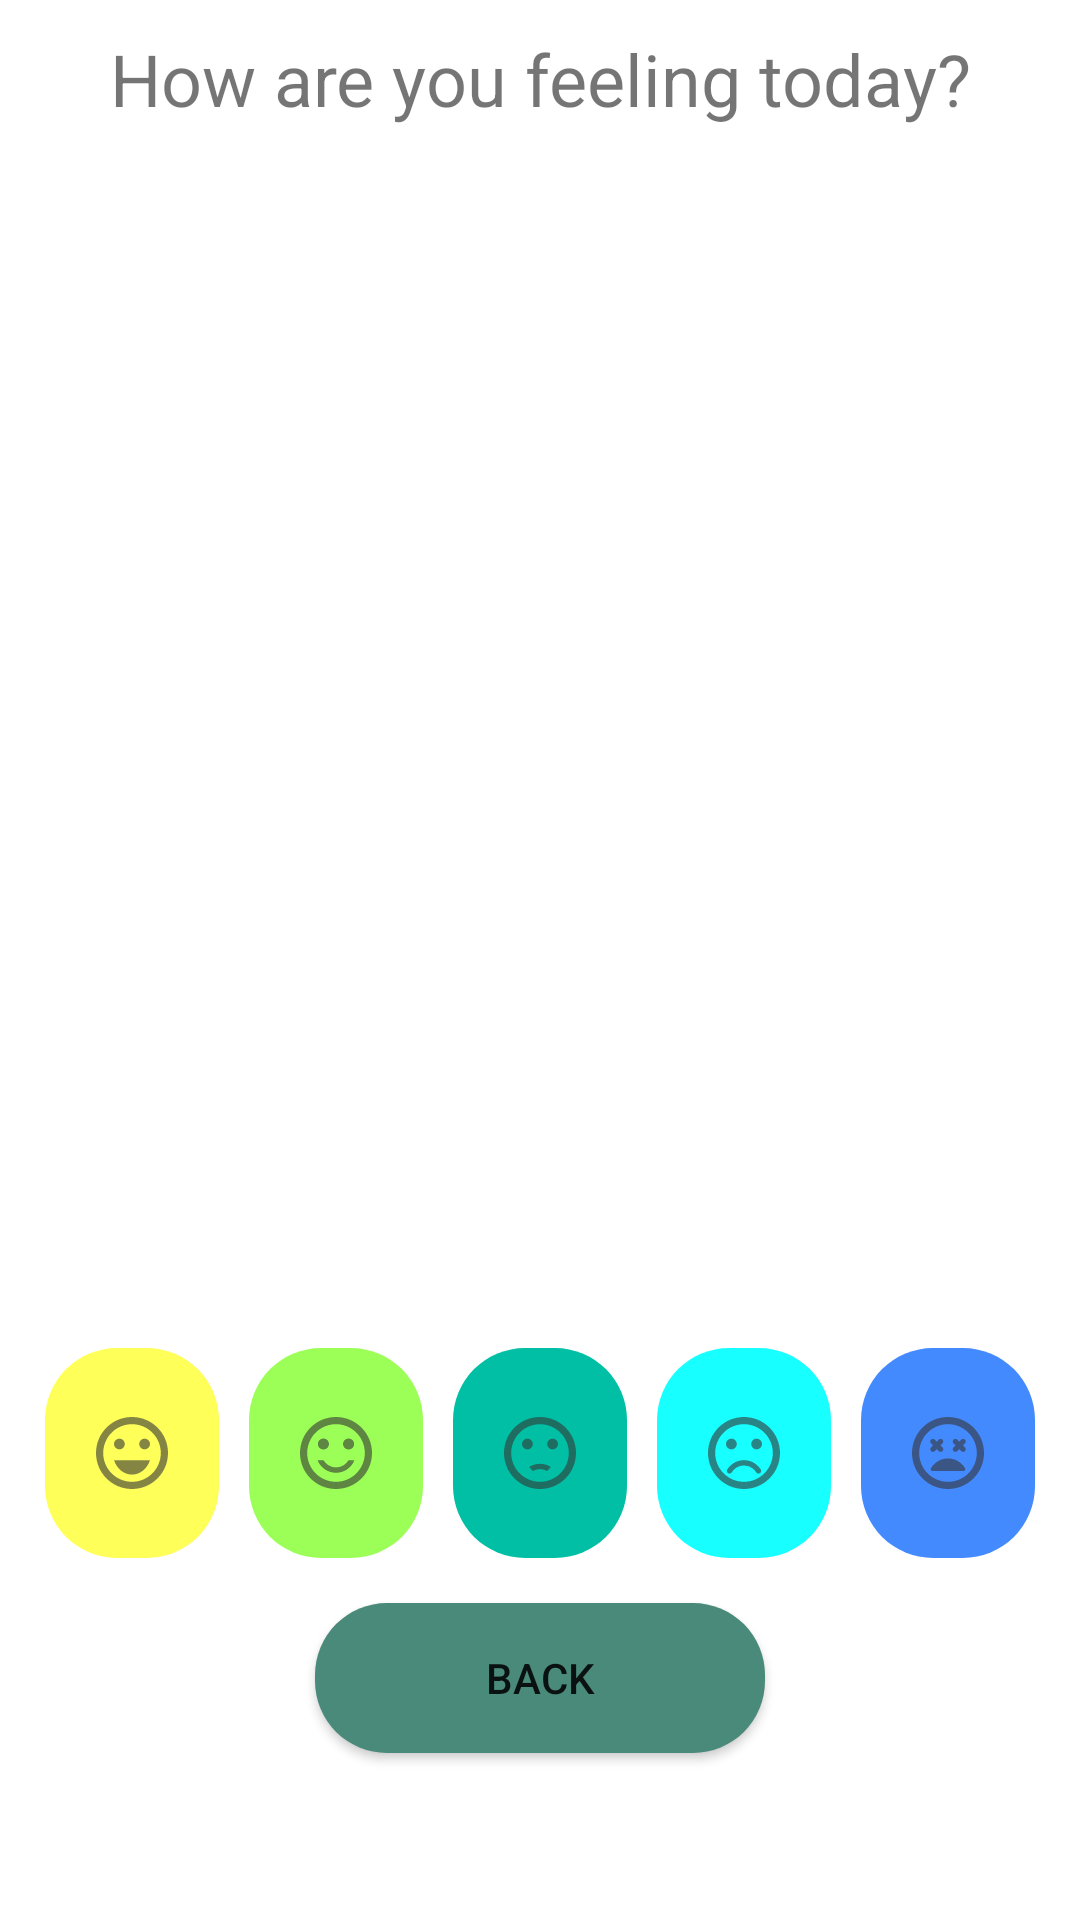

Named icons in this screenshot (1080px×1920px) and their centers, point (x, y):
awful: point (948, 1453)
happy: point (336, 1453)
joyful: point (132, 1453)
neutral: point (540, 1453)
sad: point (744, 1453)
